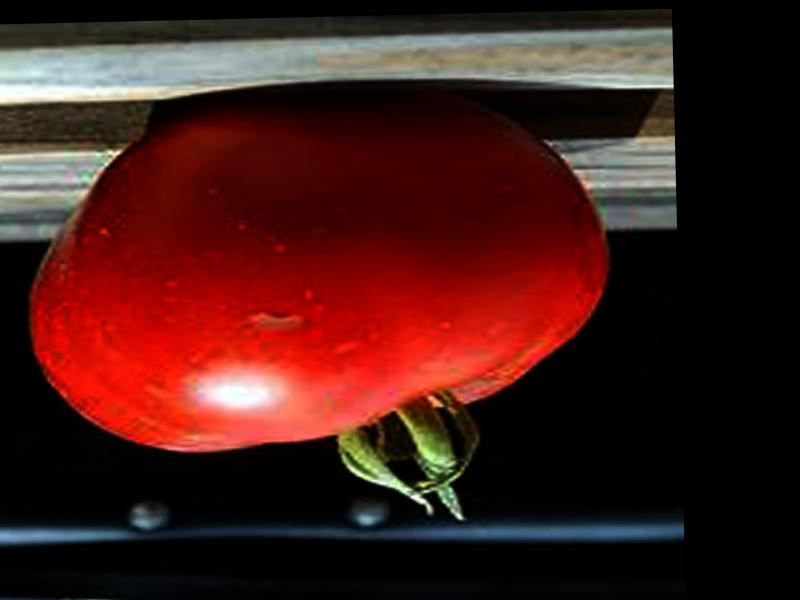Tomato: (24, 91, 612, 527)
